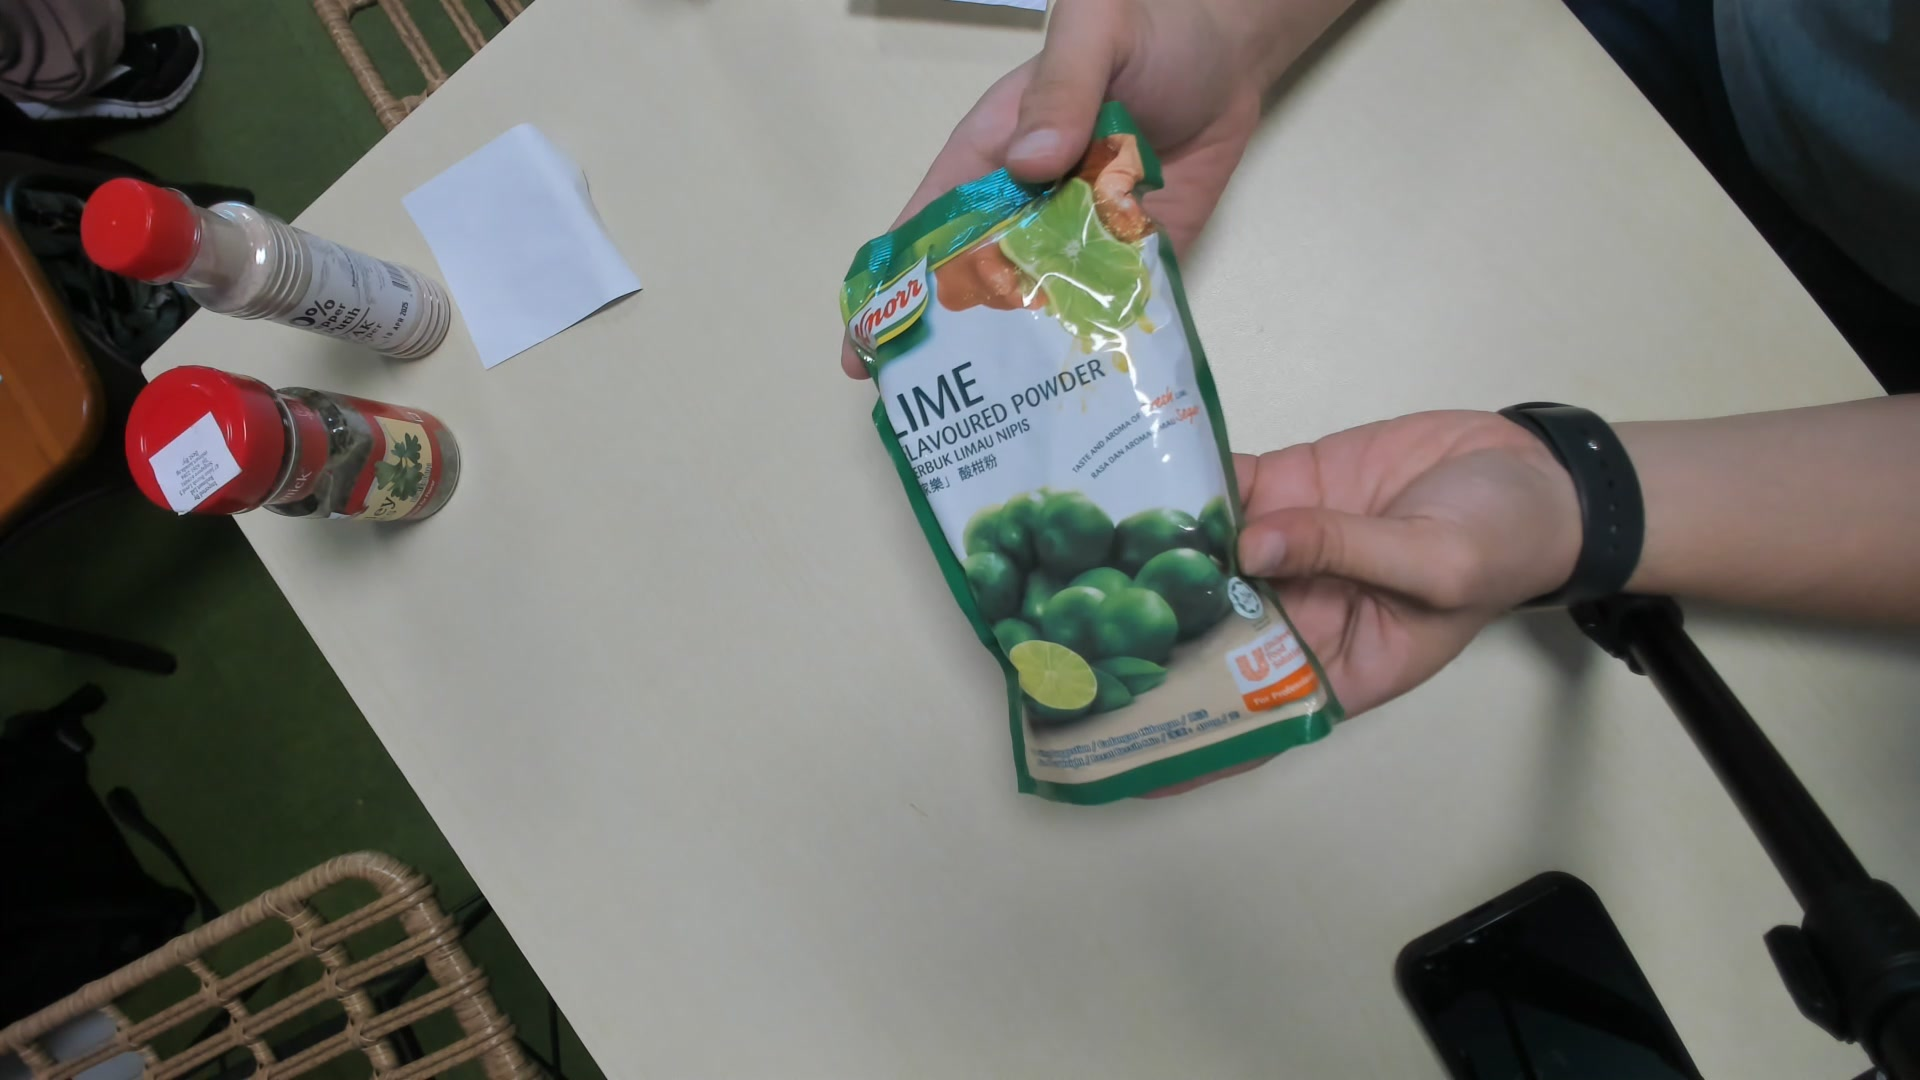HerbsSpicesPepper_400-499g_Halal_NonHealthy: (852, 84, 1333, 800)
